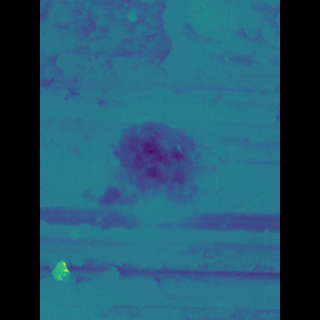Loch: (91, 0, 221, 259)
